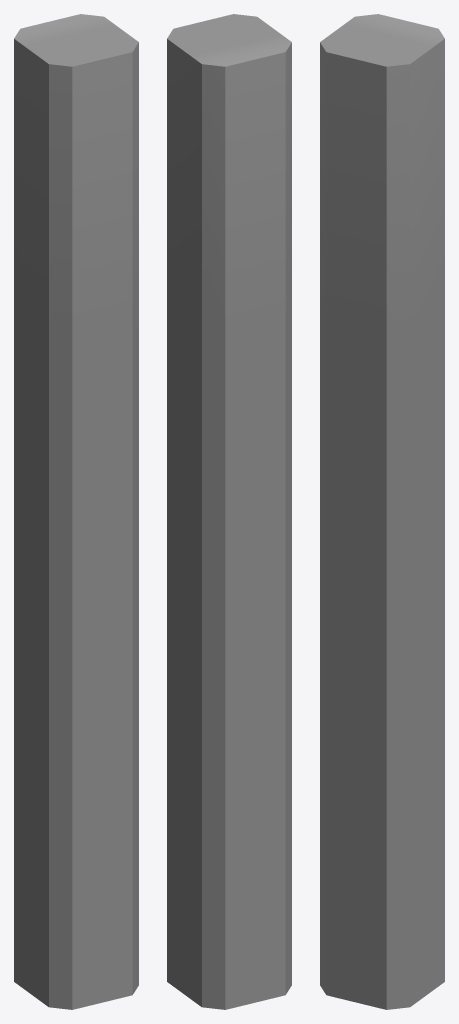
Rendered from Mod_Frame_02.fbx.
The picture shows the model from 3 angles, left to right: view 1: azimuth 30°, elevation 25°; view 2: azimuth 210°, elevation 25°; view 3: azimuth 330°, elevation 25°; orthographic projection.
Visible parts, largest first — view 1: Mod_Frame_02; view 2: Mod_Frame_02; view 3: Mod_Frame_02.
Boxes of the visible parts, x1,y1,x2,y2 form: Mod_Frame_02: (14,14,138,1009); Mod_Frame_02: (167,14,291,1009); Mod_Frame_02: (320,14,444,1009).
Size of the model in its own units: 20 by 200 by 20.
